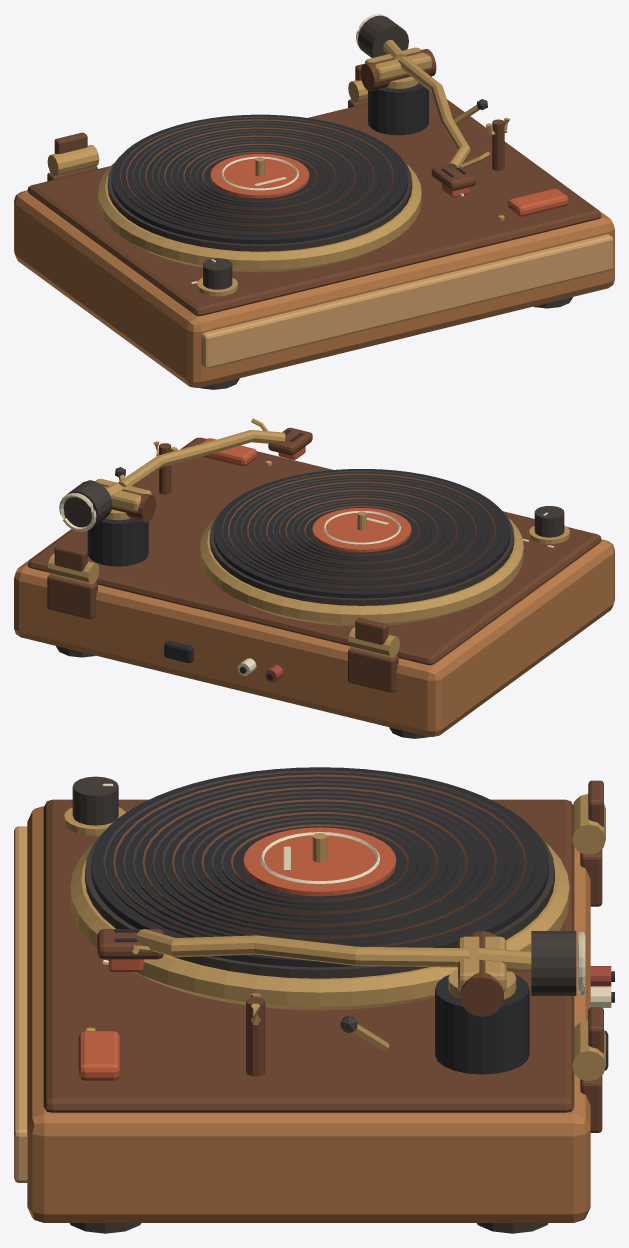
Rendered from 016_turntable_v01.glb.
3 renders of one model, top to bottom at view 1: azimuth 30°, elevation 25°; view 2: azimuth 150°, elevation 25°; view 3: azimuth 270°, elevation 25°, orthographic. The views are drawn at different scales.
Visible parts, largest first — view 1: Turntable cedar plinth, Recessed turntable deck, Vinyl record, Front contrasting cedar lip, Stepped platter, Record terracotta paper label, Turntable rubber mat, Tonearm bearing pedestal, S bent tonearm, Tonearm counterweight, Vinyl circular groove 13, Vinyl circular groove 12 (+20 smaller); view 2: Turntable cedar plinth, Recessed turntable deck, Vinyl record, Stepped platter, Record terracotta paper label, Turntable rubber mat, Tonearm bearing pedestal, S bent tonearm, Dust cover hinge mounting plate.001, Dust cover hinge mounting plate, Tonearm counterweight, Vinyl circular groove 13 (+26 smaller); view 3: Turntable cedar plinth, Recessed turntable deck, Vinyl record, Stepped platter, Record terracotta paper label, Tonearm bearing pedestal, S bent tonearm, Front contrasting cedar lip, Turntable rubber mat, Tonearm counterweight, Vinyl circular groove 09, Vinyl circular groove 13 (+26 smaller).
Part boxes in pixels (<box>): Turntable cedar plinth: <box>14,99,614,387</box>; Recessed turntable deck: <box>27,91,601,316</box>; Vinyl record: <box>111,114,408,244</box>; Front contrasting cedar lip: <box>201,234,613,368</box>; Stepped platter: <box>98,163,421,272</box>; Record terracotta paper label: <box>210,153,309,198</box>; Turntable rubber mat: <box>107,156,412,251</box>; Tonearm bearing pedestal: <box>368,83,428,135</box>; S bent tonearm: <box>398,56,470,168</box>; Tonearm counterweight: <box>358,15,408,57</box>; Vinyl circular groove 13: <box>119,116,400,236</box>; Vinyl circular groove 12: <box>126,119,393,233</box>; Turntable cedar plinth: <box>14,443,614,736</box>; Recessed turntable deck: <box>27,437,601,665</box>; Vinyl record: <box>213,469,510,598</box>; Stepped platter: <box>200,517,523,626</box>; Record terracotta paper label: <box>312,508,411,552</box>; Turntable rubber mat: <box>209,510,514,605</box>; Tonearm bearing pedestal: <box>87,518,148,566</box>; S bent tonearm: <box>118,430,285,486</box>; Dust cover hinge mounting plate.001: <box>47,574,97,619</box>; Dust cover hinge mounting plate: <box>348,648,398,692</box>; Tonearm counterweight: <box>63,480,112,528</box>; Vinyl circular groove 13: <box>221,470,502,590</box>; Turntable cedar plinth: <box>27,806,590,1222</box>; Recessed turntable deck: <box>43,799,574,1112</box>; Vinyl record: <box>91,767,548,967</box>; Stepped platter: <box>70,841,569,1010</box>; Record terracotta paper label: <box>243,827,396,896</box>; Tonearm bearing pedestal: <box>435,975,529,1074</box>; S bent tonearm: <box>136,929,470,967</box>; Front contrasting cedar lip: <box>14,826,27,1182</box>; Turntable rubber mat: <box>85,830,554,978</box>; Tonearm counterweight: <box>531,931,576,995</box>; Vinyl circular groove 09: <box>142,786,497,938</box>; Vinyl circular groove 13: <box>103,770,536,947</box>.
Size of the model in its own units: 0.628 by 0.245 by 0.496.
